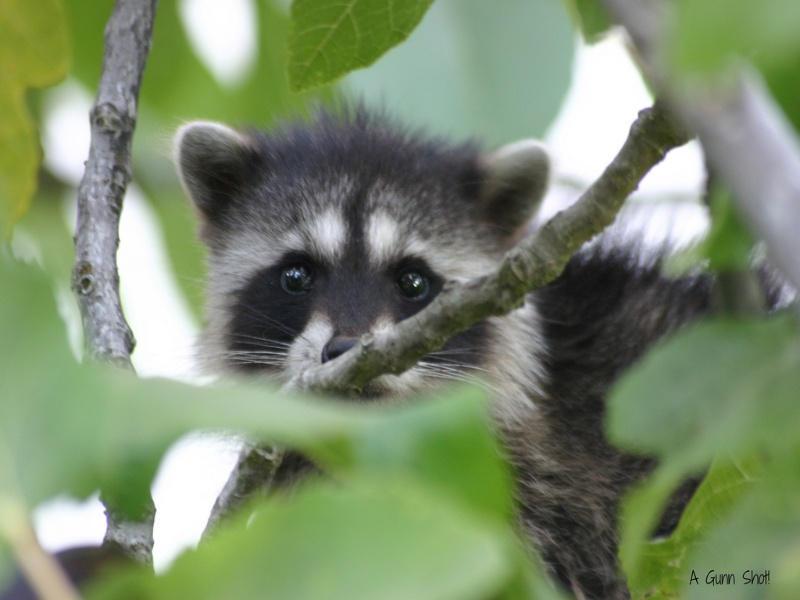raccoon: (169, 109, 779, 598)
